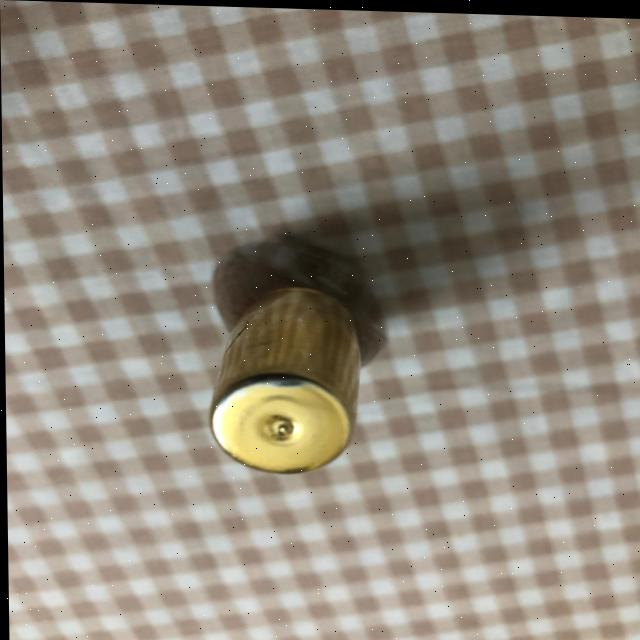nail polish: (156, 199, 425, 486)
